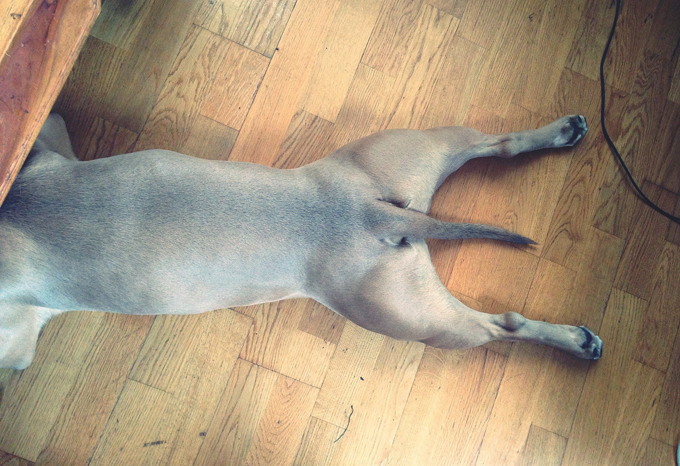tail: (373, 190, 544, 256)
